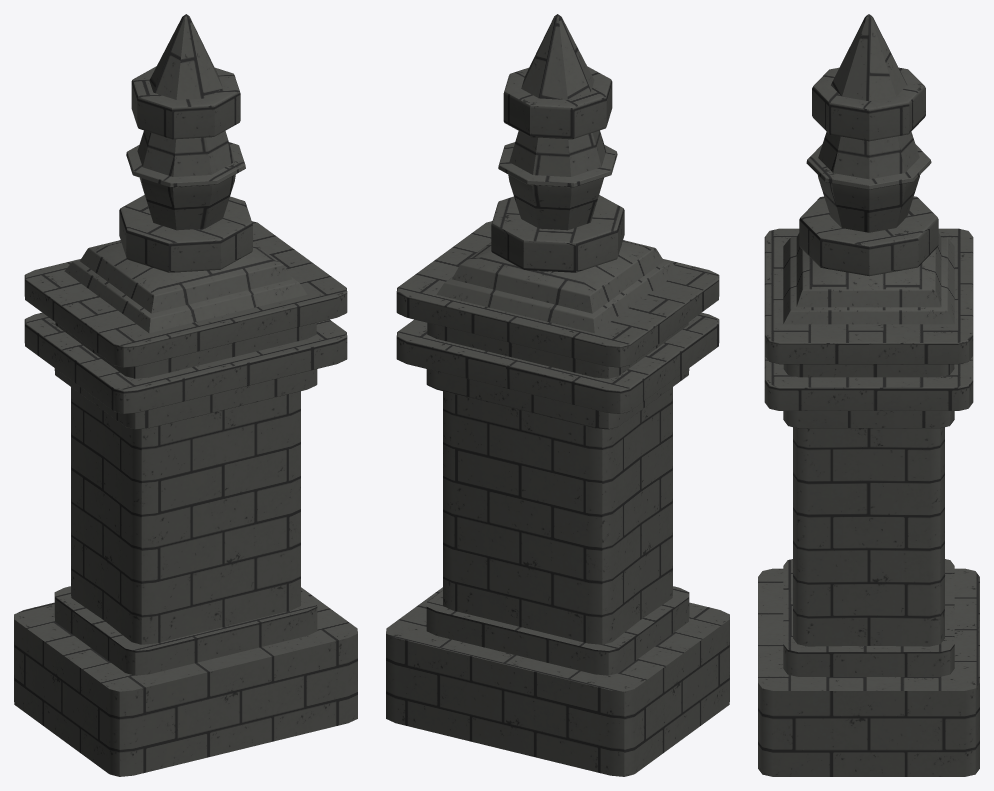
File: Pillar_Spiked_A_UV.fbx
3 renders of one model, left to right at view 1: azimuth 30°, elevation 25°; view 2: azimuth 150°, elevation 25°; view 3: azimuth 270°, elevation 25°, orthographic.
Visible parts, largest first — view 1: Pillar_Spiked_A; view 2: Pillar_Spiked_A; view 3: Pillar_Spiked_A.
Part boxes in pixels (<box>): Pillar_Spiked_A: <box>14,14,357,776</box>; Pillar_Spiked_A: <box>386,14,729,776</box>; Pillar_Spiked_A: <box>758,14,979,776</box>.
Size of the model in its own units: 54.8 by 147 by 42.
